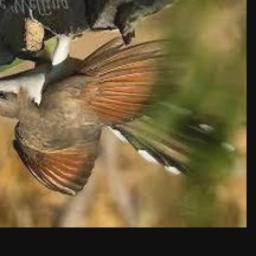Cuckoo: (0, 34, 233, 197)
